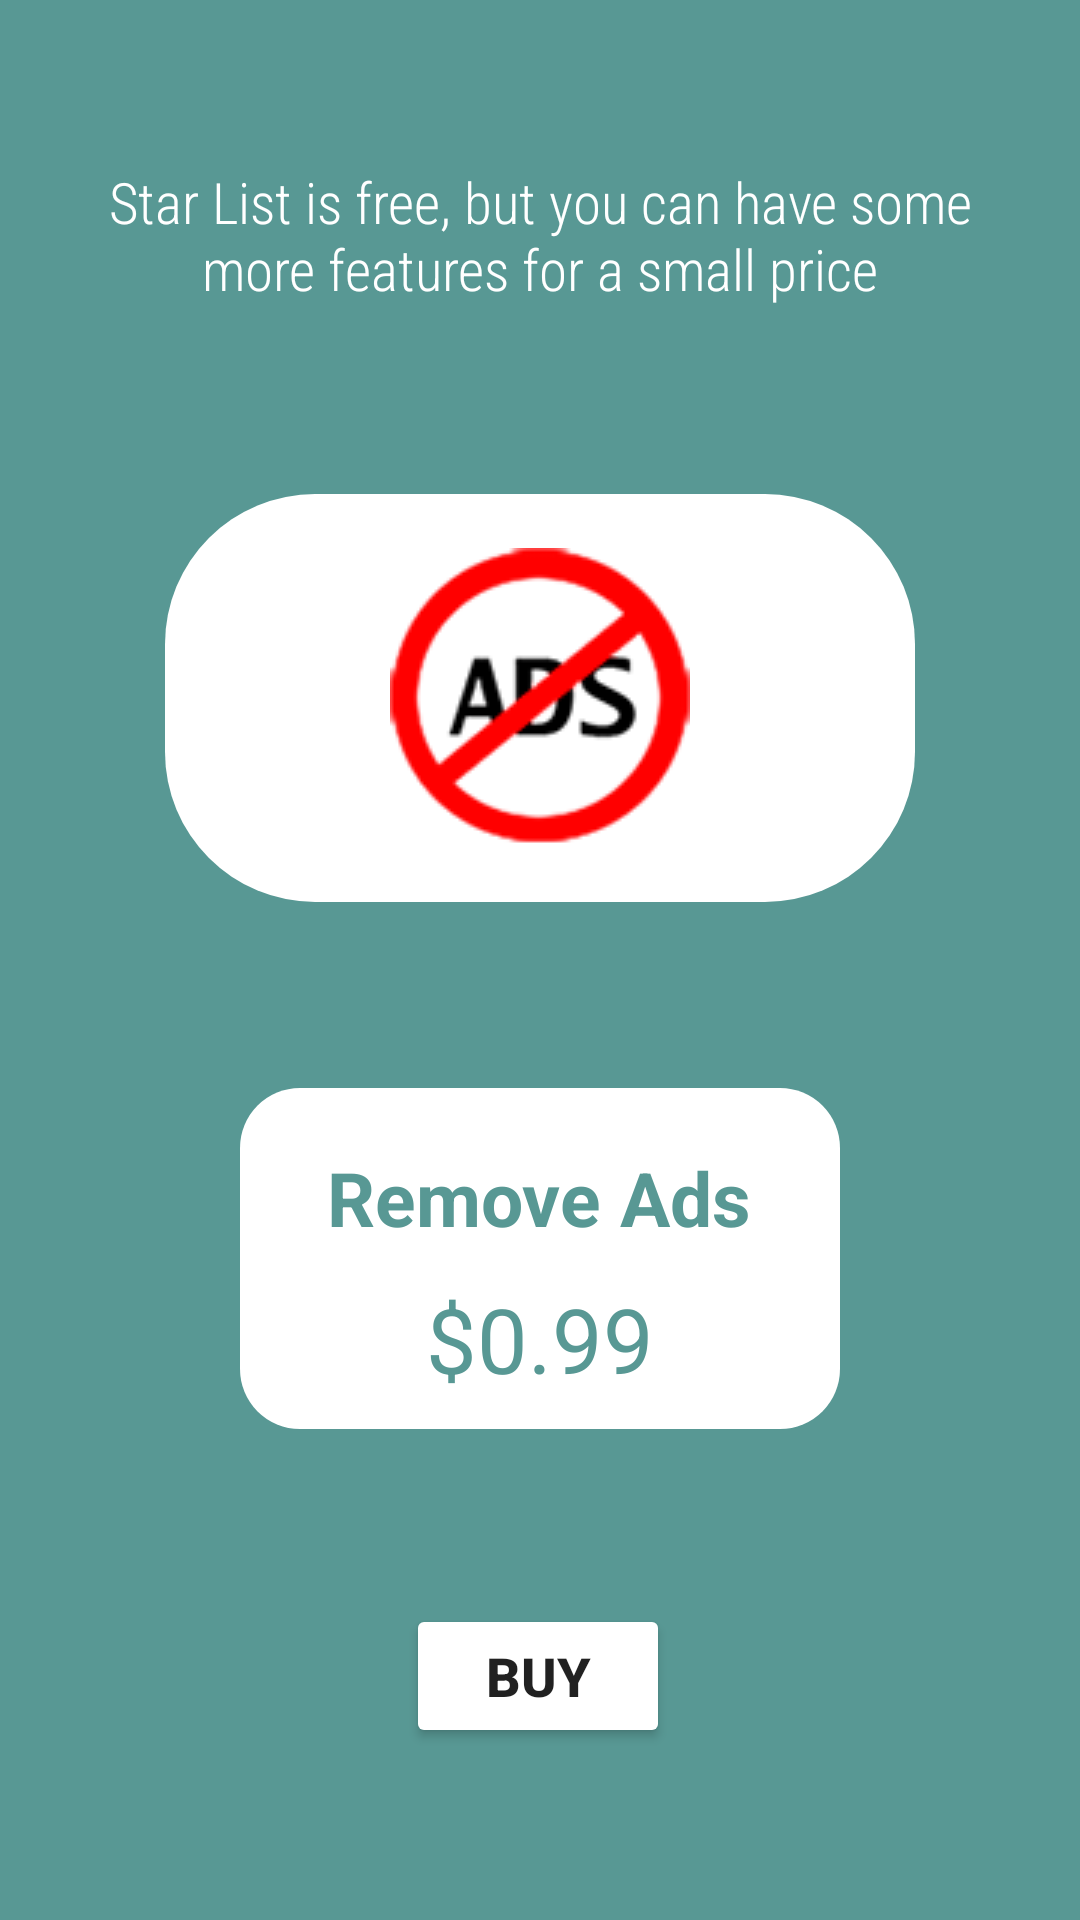

Icons on this 1080px x 1920px Android screen, each with its box as bbox(x1, y1, x2, y2):
no ads: bbox(390, 548, 690, 843)
